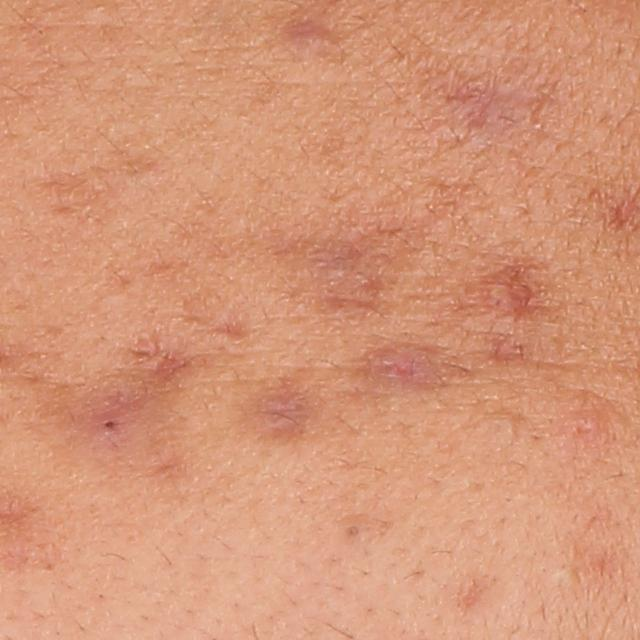comedo: (343, 520, 361, 541)
